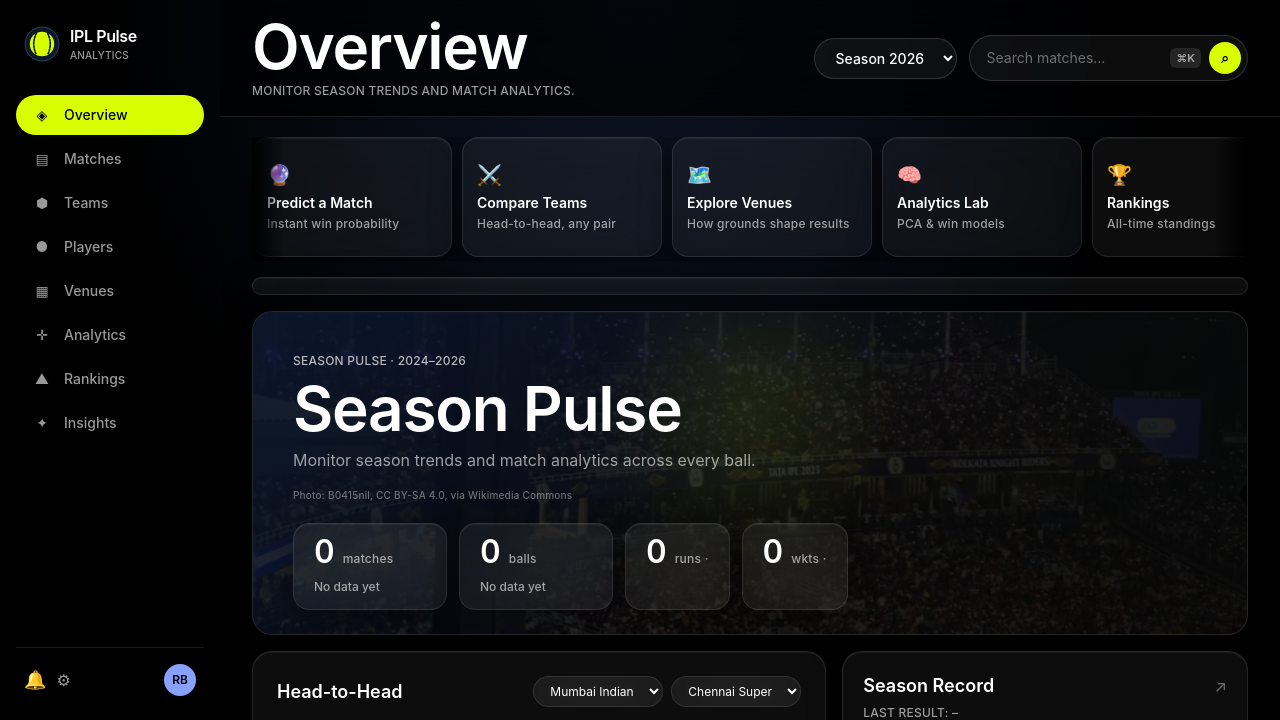
Test case: Sidebar footer › opens the profile card with repo link
Expected: the heading "Season Pulse" is shown, x1=293 y1=371 x2=682 y2=446
Click the button with aria-label "Profile" at (180, 680), box x1=164 y1=664 x2=196 y2=696
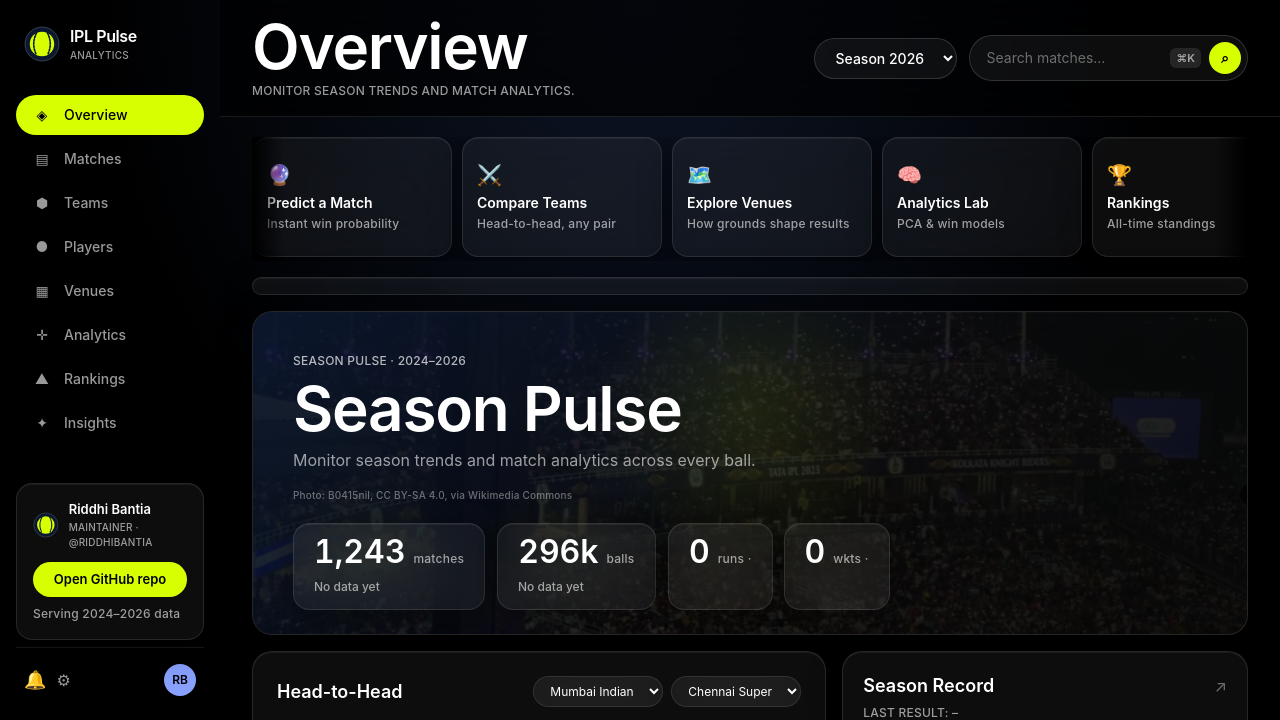
Expected: the text "Riddhi Bantia" is shown, x1=69 y1=501 x2=151 y2=517
